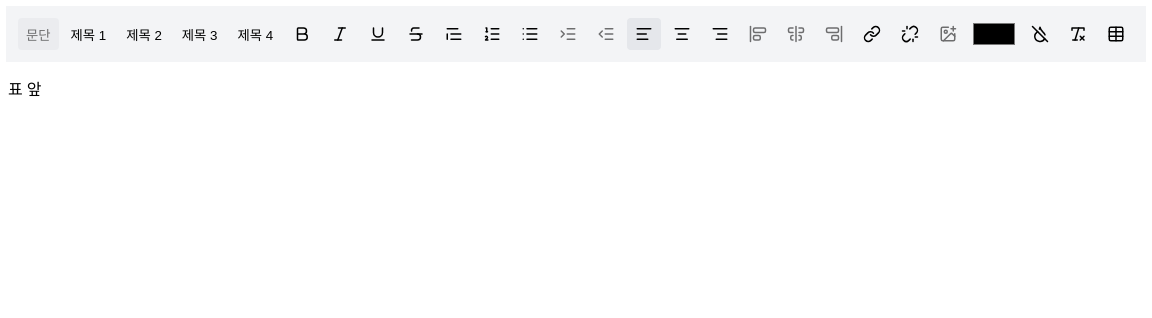
Test case: TableControls › 3x3 표를 header 행과 함께 실제 문서에 삽입한다
Click the button named "표 삽입".
click(1116, 34)  # box [1099, 18, 1133, 50]
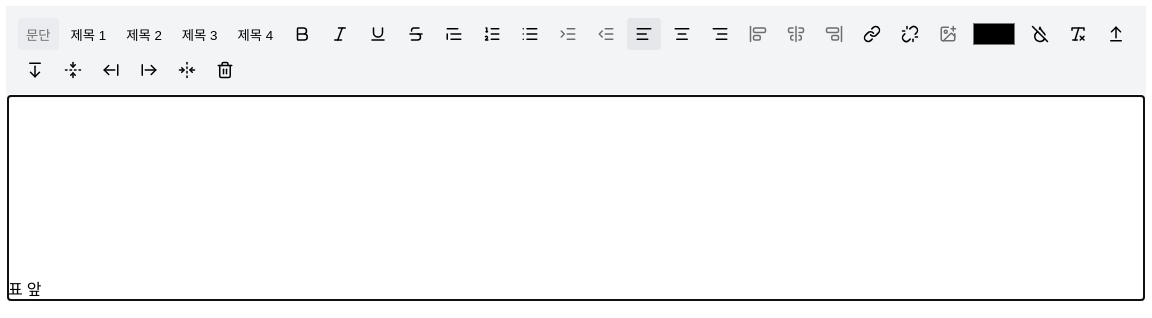
Expected: the number of column headings is 3, [10, 98, 35, 150]; [37, 98, 62, 150]; [64, 98, 89, 150]
Result: the number of rows is 3 at [10, 98, 89, 150]; [10, 152, 89, 204]; [10, 206, 89, 258]
